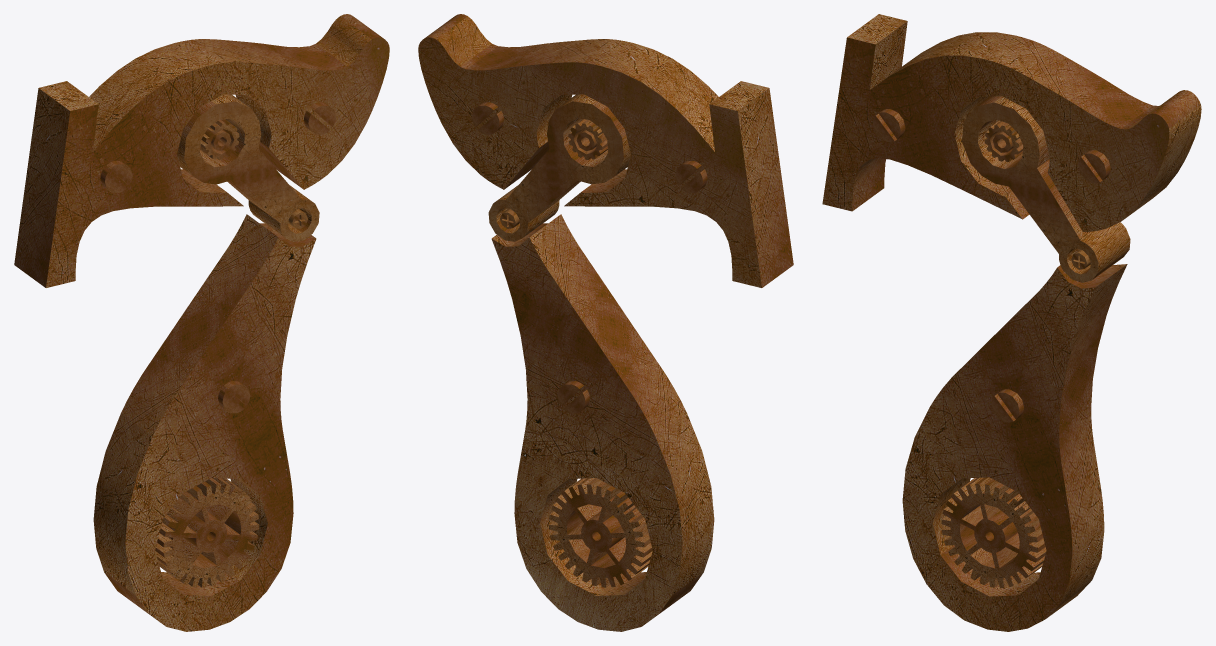
3 renders of one model, left to right at view 1: azimuth 30°, elevation 25°; view 2: azimuth 150°, elevation 25°; view 3: azimuth 330°, elevation 25°, orthographic.
Visible parts, largest first — view 1: 032, 047, Lever_038, Cogwheel_377, Cogwheel_383, Screw_762, Screw_721, Screw_725; view 2: 032, 047, Lever_038, Cogwheel_377, Cogwheel_383, Screw_762, Screw_725, Screw_721; view 3: 032, 047, Lever_038, Cogwheel_377, Cogwheel_383, Screw_725, Screw_762, Screw_721.
Boxes of the visible parts, x1,y1,x2,y2 form: 032: (93, 214, 316, 631); 047: (14, 14, 389, 287); Lever_038: (177, 94, 319, 241); Cogwheel_377: (155, 478, 259, 587); Cogwheel_383: (200, 119, 239, 159); Screw_762: (304, 102, 335, 134); Screw_721: (100, 161, 132, 192); Screw_725: (218, 381, 250, 413); 032: (491, 214, 714, 631); 047: (418, 14, 793, 287); Lever_038: (488, 94, 630, 241); Cogwheel_377: (548, 478, 652, 587); Cogwheel_383: (568, 119, 607, 159); Screw_762: (472, 102, 503, 134); Screw_725: (557, 381, 589, 413); Screw_721: (675, 161, 707, 192); 032: (902, 264, 1127, 631); 047: (822, 14, 1201, 231); Lever_038: (962, 96, 1130, 282); Cogwheel_377: (941, 477, 1046, 588); Cogwheel_383: (984, 120, 1023, 161); Screw_725: (991, 389, 1023, 422); Screw_762: (1078, 150, 1110, 183); Screw_721: (873, 109, 905, 142).
Bounding box in the file's own units: 62.55 × 98.09 × 12.89.
Materials: 1 (1 with a texture image).
